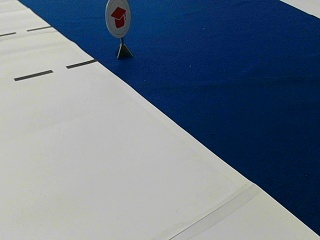school: (104, 1, 131, 36)
